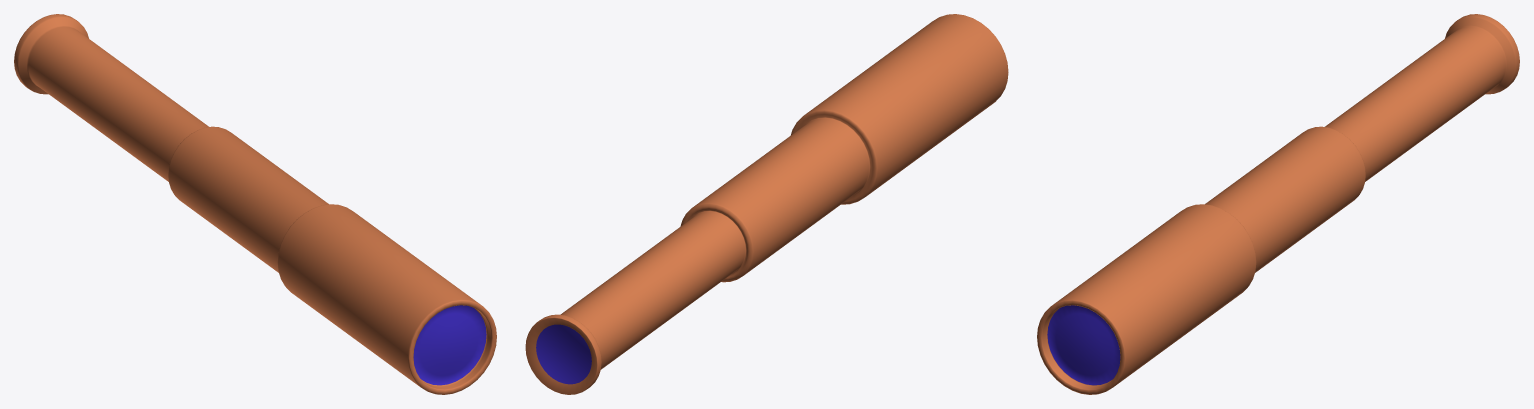
The model's file is Telescope.fbx.
The picture shows the model from 3 angles, left to right: view 1: azimuth 30°, elevation 25°; view 2: azimuth 150°, elevation 25°; view 3: azimuth 330°, elevation 25°; orthographic projection.
Visible parts, largest first — view 1: Luneta; view 2: Luneta; view 3: Luneta.
Part boxes in pixels (x1,y1,x2,y2): Luneta: [14, 14, 496, 394]; Luneta: [525, 14, 1008, 394]; Luneta: [1037, 14, 1519, 394].
Bounding box in the file's own units: 59.13 × 59.13 × 466.
